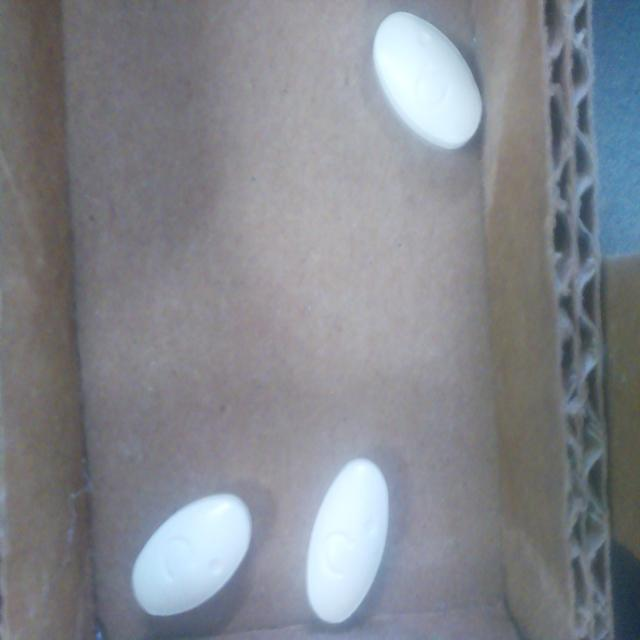pill: (373, 12, 482, 149), (132, 494, 251, 615), (306, 459, 388, 624)
